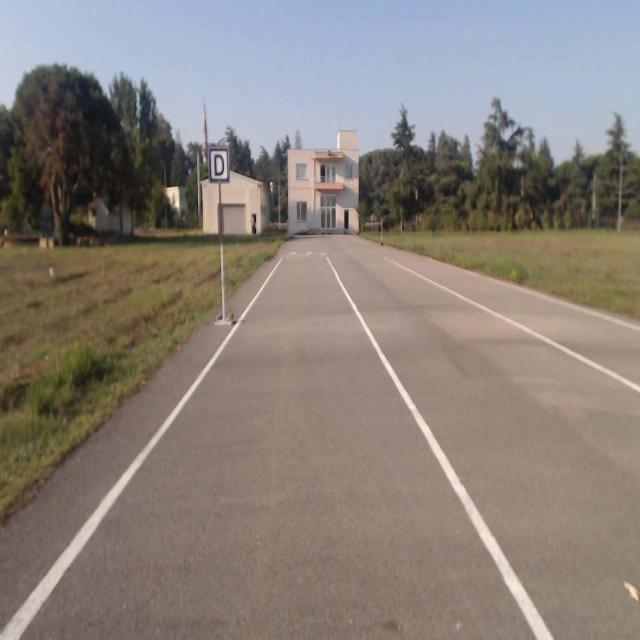durak: (209, 147, 229, 180)
